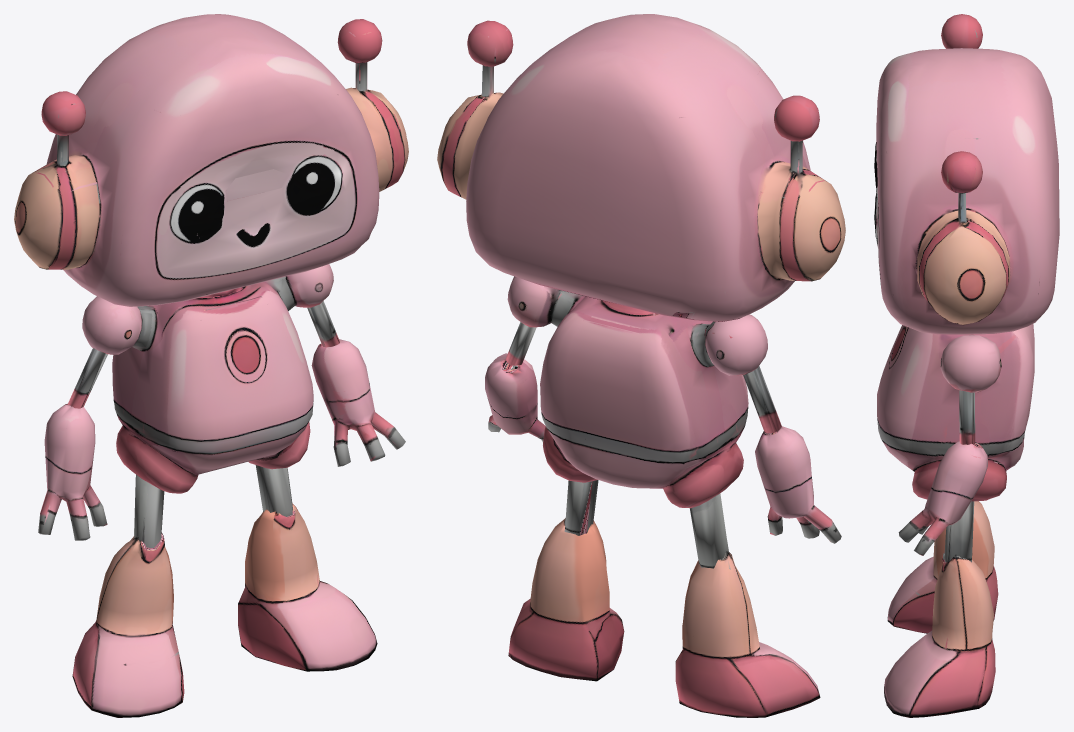
File: FinalRobot.glb
3 renders of one model, left to right at view 1: azimuth 30°, elevation 25°; view 2: azimuth 150°, elevation 25°; view 3: azimuth 270°, elevation 25°, orthographic. The views are drawn at different scales.
Visible parts, largest first — view 1: Cabeza, Cuerpo, Antepie2, Antepie1, Brazo1, Brazo2, Pierna1, Pierna2, Antebrazo1, Antebrazo2; view 2: Cabeza, Cuerpo, Antepie1, Antepie2, Brazo1, Brazo2, Pierna1, Pierna2, Antebrazo1, Antebrazo2; view 3: Cabeza, Cuerpo, Antepie2, Brazo2, Antepie1, Pierna2, Antebrazo2.
Boxes of the visible parts, <box> form: Cabeza: <box>14,14,408,306</box>; Cuerpo: <box>82,264,333,493</box>; Antepie2: <box>238,503,377,671</box>; Antepie1: <box>72,532,184,717</box>; Brazo1: <box>38,403,107,540</box>; Brazo2: <box>311,339,405,466</box>; Pierna1: <box>134,474,164,547</box>; Pierna2: <box>255,465,292,516</box>; Antebrazo1: <box>67,348,107,408</box>; Antebrazo2: <box>307,301,339,347</box>; Cabeza: <box>437,14,845,321</box>; Cuerpo: <box>507,276,767,508</box>; Antepie1: <box>675,551,820,717</box>; Antepie2: <box>508,518,624,681</box>; Brazo1: <box>755,426,841,543</box>; Brazo2: <box>485,353,545,441</box>; Pierna1: <box>689,493,728,568</box>; Pierna2: <box>564,480,598,535</box>; Antebrazo1: <box>743,366,781,433</box>; Antebrazo2: <box>506,322,536,365</box>; Cabeza: <box>874,14,1059,334</box>; Cuerpo: <box>877,324,1034,501</box>; Antepie2: <box>884,552,995,717</box>; Brazo2: <box>898,441,987,555</box>; Antepie1: <box>887,501,998,633</box>; Pierna2: <box>944,501,974,562</box>; Antebrazo2: <box>959,390,975,444</box>.
Size of the model in its own units: 0.6825 by 1.07 by 0.3018.
Materials: 1 (1 with a texture image).
